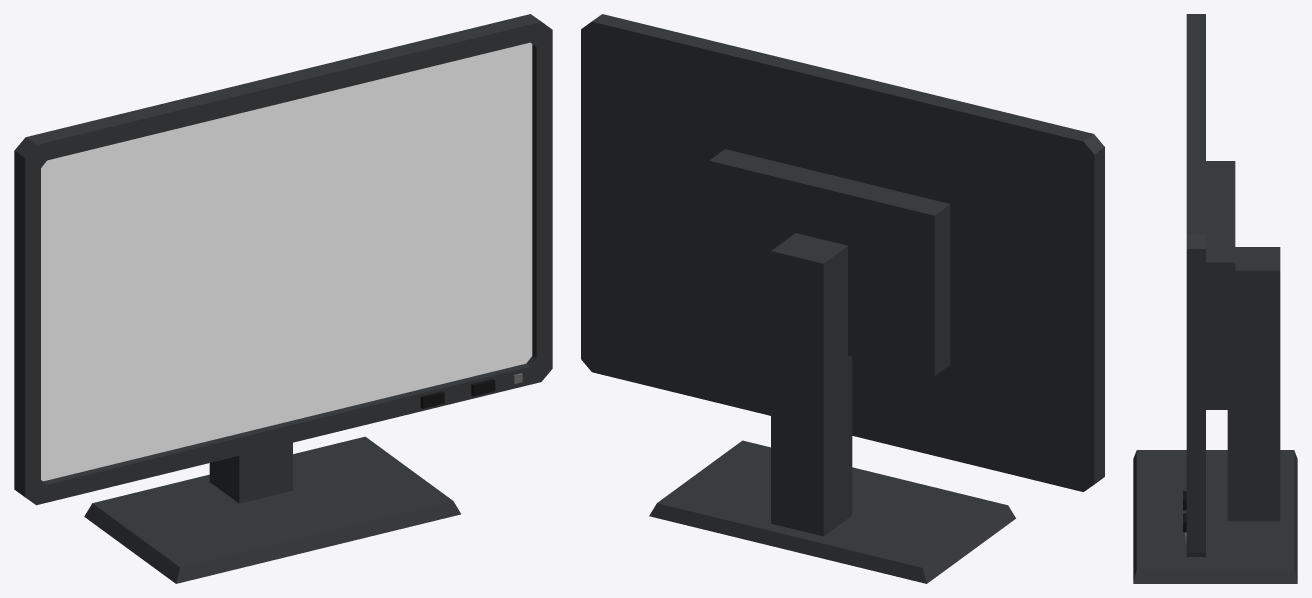
Rendered from SM_Prop_Computer_Screen_01.obj.
The picture shows the model from 3 angles, left to right: view 1: azimuth 30°, elevation 25°; view 2: azimuth 150°, elevation 25°; view 3: azimuth 270°, elevation 25°; orthographic projection. The views are drawn at different scales.
Parts seen in each view (by area): view 1: SM_Prop_Computer_Screen_01_0; view 2: SM_Prop_Computer_Screen_01_0; view 3: SM_Prop_Computer_Screen_01_0.
Boxes of the visible parts, bbox=[...] form: SM_Prop_Computer_Screen_01_0: bbox=[14, 14, 552, 583]; SM_Prop_Computer_Screen_01_0: bbox=[581, 14, 1104, 583]; SM_Prop_Computer_Screen_01_0: bbox=[1133, 14, 1297, 583].
Size of the model in its own units: 0.711 by 0.5718 by 0.2146.
1 material, 1 textured.
